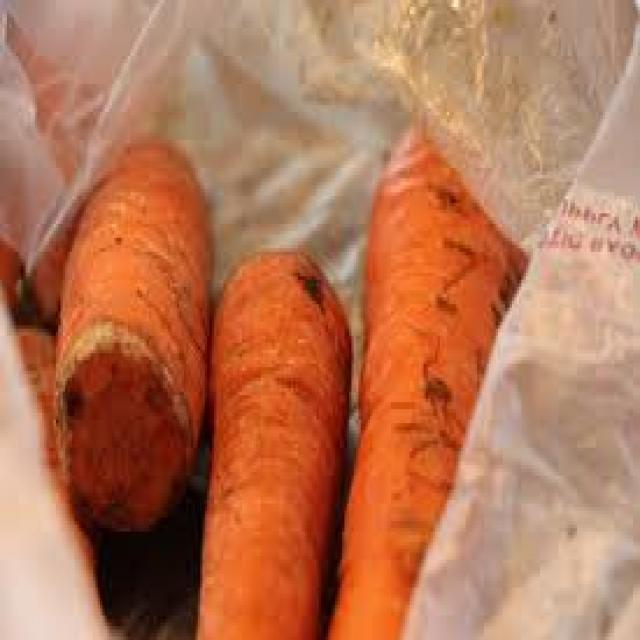Stale_Carrot: (35, 321, 209, 553), (420, 99, 541, 348), (253, 245, 359, 354)
